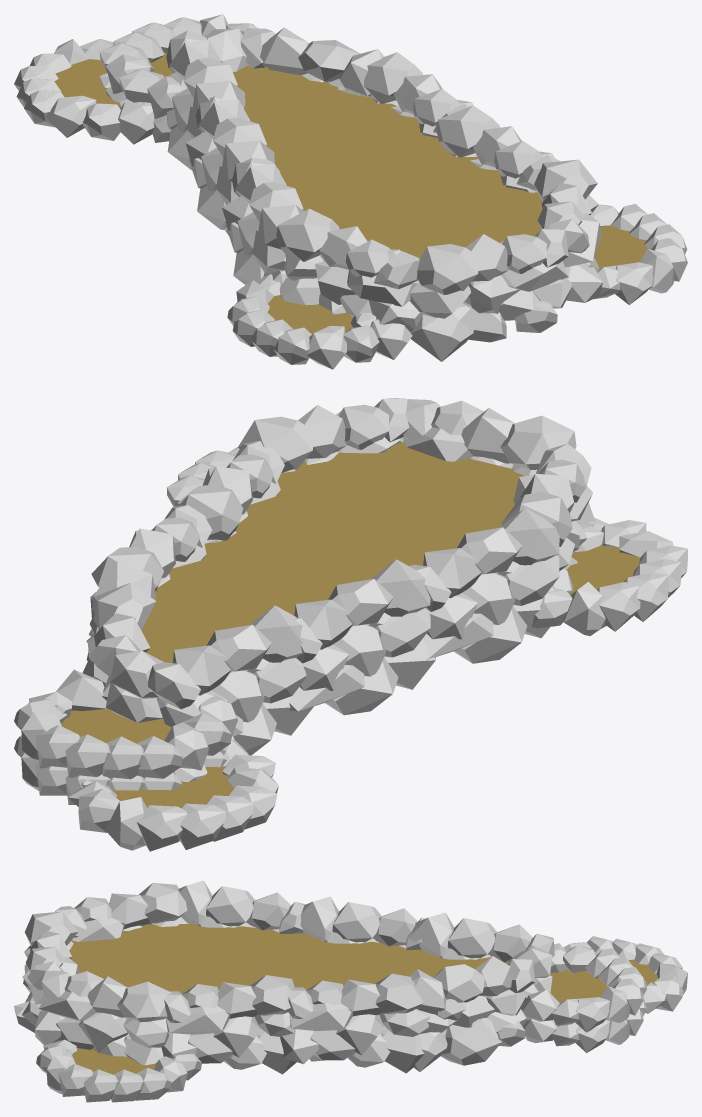
The picture shows the model from 3 angles, top to bottom: view 1: azimuth 30°, elevation 25°; view 2: azimuth 150°, elevation 25°; view 3: azimuth 270°, elevation 25°; orthographic projection. The views are drawn at different scales.
Visible parts, largest first — view 1: SM_B_09; view 2: SM_B_09; view 3: SM_B_09.
Boxes of the visible parts, box(x1,y1,x2,y2) form: SM_B_09: box(14, 14, 687, 369); SM_B_09: box(14, 398, 687, 851); SM_B_09: box(14, 880, 687, 1102).
Size of the model in its own units: 421 by 103 by 677.
